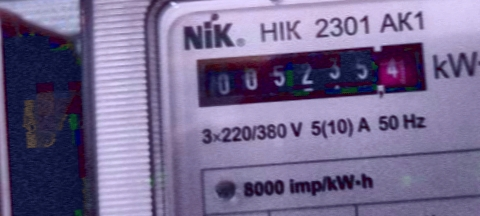0: (215, 67, 232, 93), (243, 63, 259, 88)
2: (298, 56, 315, 83)
3: (325, 52, 343, 78)
4: (383, 49, 402, 79)
5: (353, 49, 370, 78), (271, 59, 286, 85)
screen: (183, 28, 436, 113)
